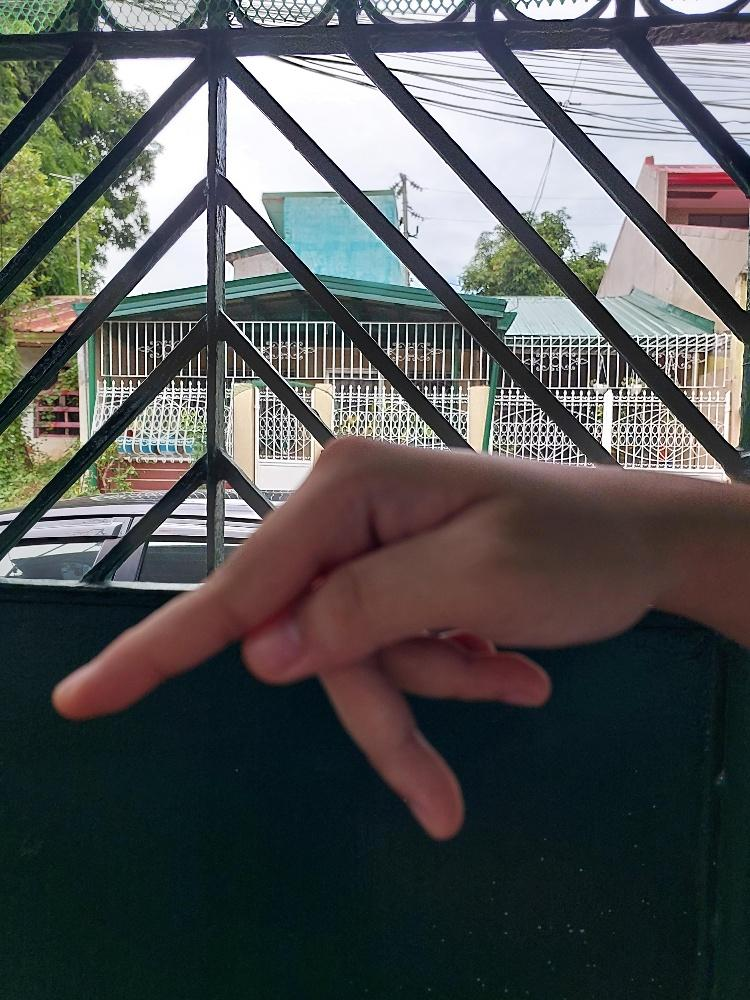p: (49, 425, 659, 843)
